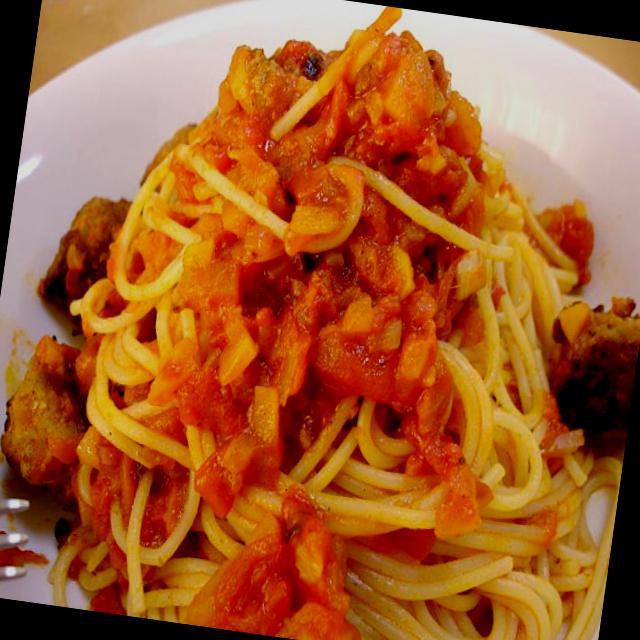Pasta: (41, 24, 632, 640)
